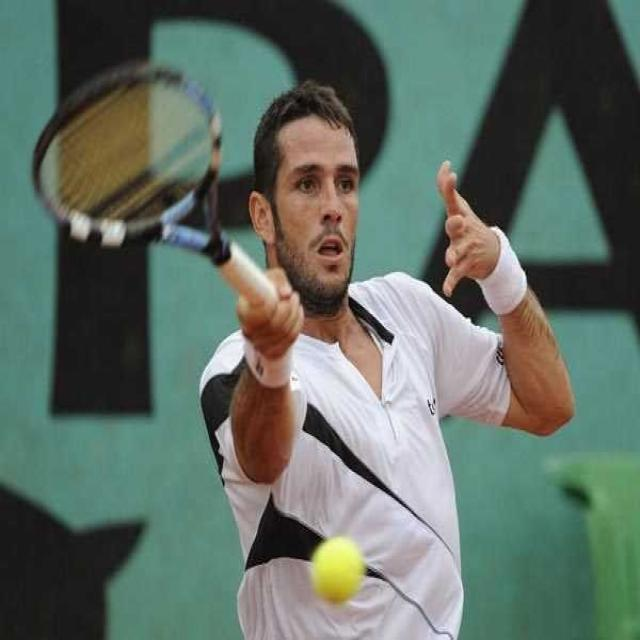Tennis_Ball: (314, 537, 364, 605)
